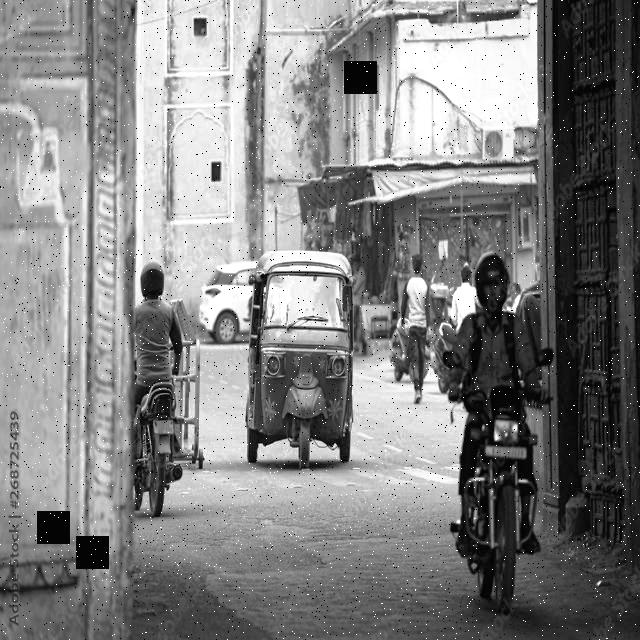Auto-Rickshaw: (224, 253, 378, 497)
